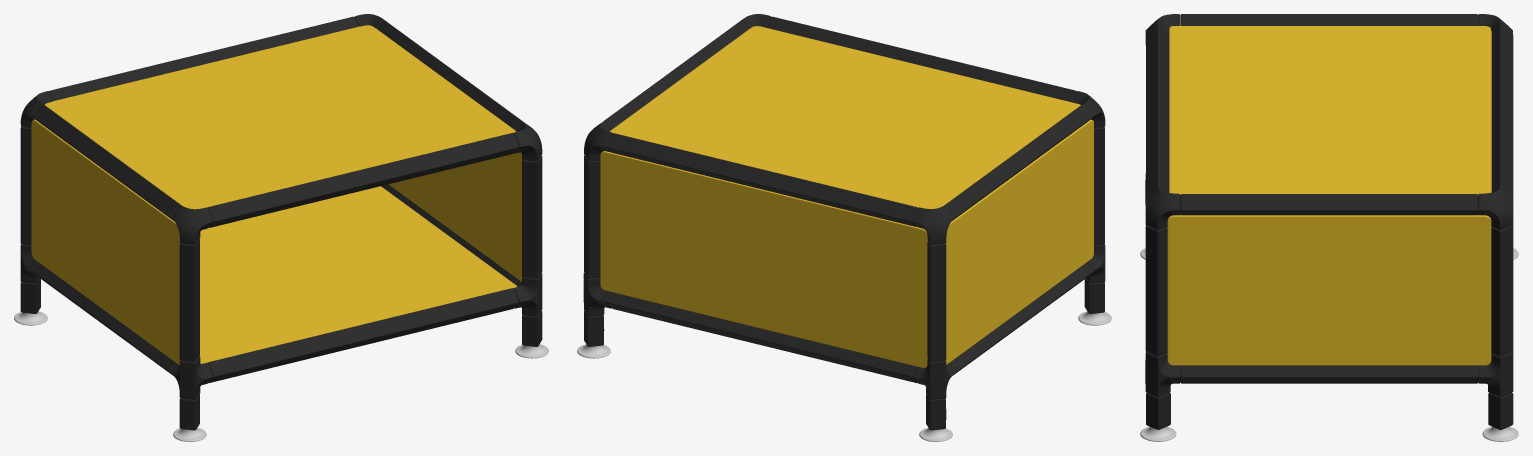
The picture shows the model from 3 angles, left to right: view 1: azimuth 30°, elevation 25°; view 2: azimuth 150°, elevation 25°; view 3: azimuth 270°, elevation 25°; orthographic projection. The views are drawn at different scales.
Parts seen in each view (by area): view 1: 420x329x154; view 2: 420x329x154; view 3: 420x329x154.
Boxes of the visible parts, <box> form: 420x329x154: <box>14,14,548,441</box>; 420x329x154: <box>577,14,1111,441</box>; 420x329x154: <box>1140,14,1518,441</box>.
Size of the model in its own units: 0.5099 by 0.2933 by 0.4183.
